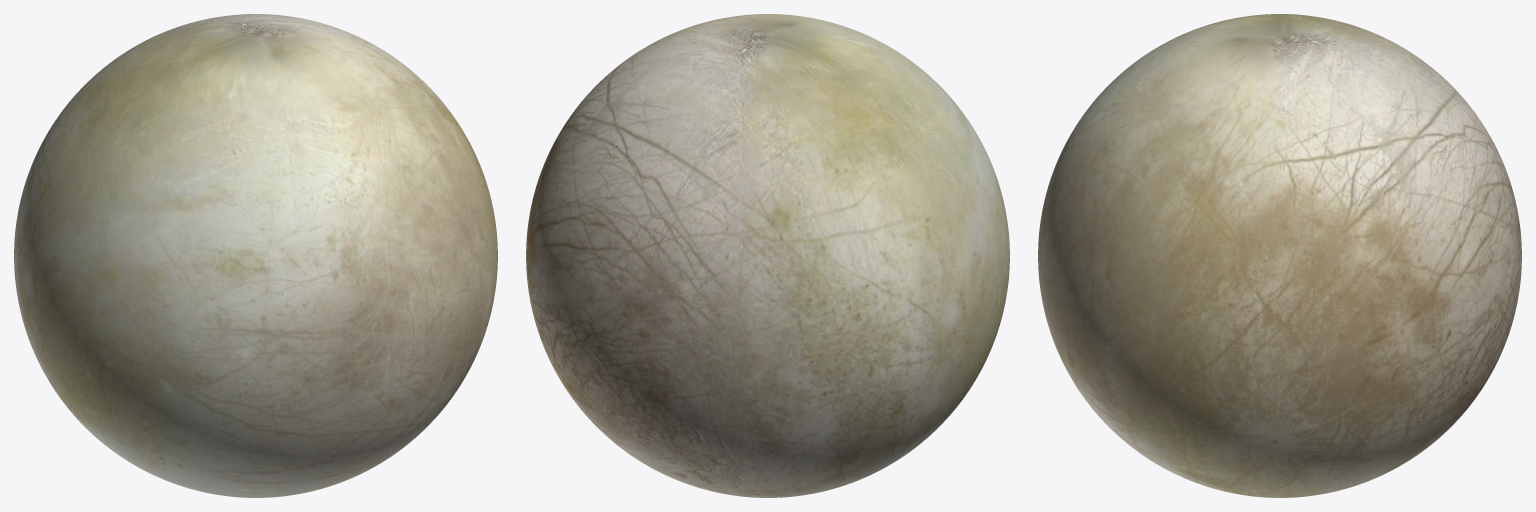
Rendered from mooneuropa.glb.
The picture shows the model from 3 angles, left to right: view 1: azimuth 30°, elevation 25°; view 2: azimuth 150°, elevation 25°; view 3: azimuth 270°, elevation 25°; orthographic projection.
Visible parts, largest first — view 1: cylindrically_mapped_sphere; view 2: cylindrically_mapped_sphere; view 3: cylindrically_mapped_sphere.
Boxes of the visible parts, <box> form: cylindrically_mapped_sphere: <box>14,14,497,497</box>; cylindrically_mapped_sphere: <box>526,14,1009,497</box>; cylindrically_mapped_sphere: <box>1038,14,1521,497</box>.
Bounding box in the file's own units: 1000 × 1000 × 1000.
Materials: 1 (1 with a texture image).
